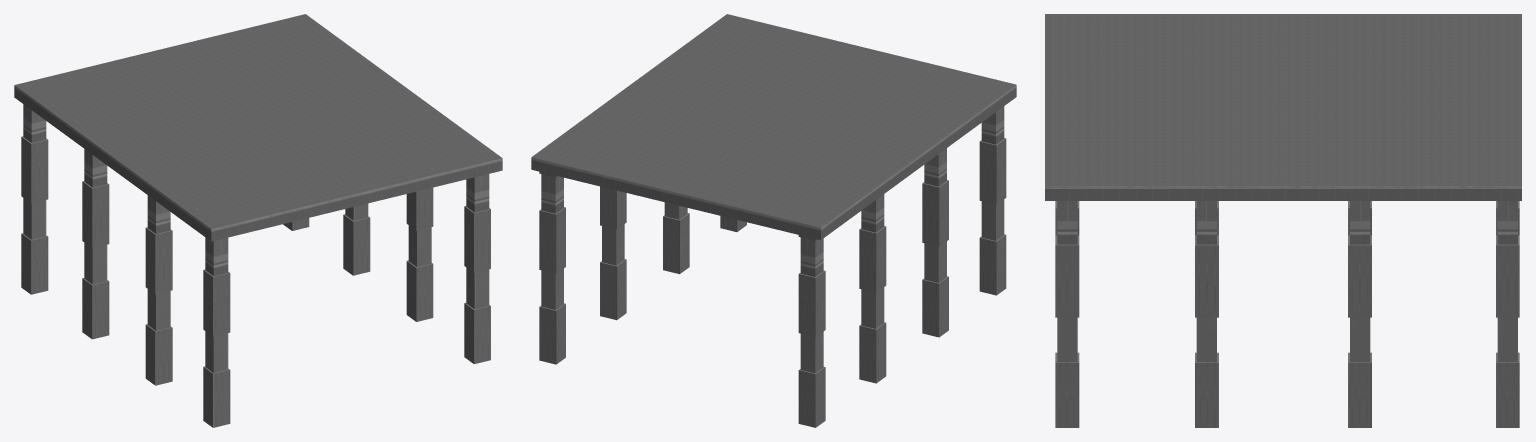
The model's file is SM_support_module_large_02.glb.
3 views of the same model, side by side, from view 1: azimuth 30°, elevation 25°; view 2: azimuth 150°, elevation 25°; view 3: azimuth 270°, elevation 25° (orthographic). The views are drawn at different scales.
Visible parts, largest first — view 1: SM_support_module_large_02; view 2: SM_support_module_large_02; view 3: SM_support_module_large_02.
Part boxes in pixels (box(x1,y1,x2,y2)): SM_support_module_large_02: box(14, 14, 502, 427); SM_support_module_large_02: box(531, 14, 1016, 427); SM_support_module_large_02: box(1045, 14, 1521, 427).
Bounding box in the file's own units: 34.16 × 22.8 × 40.
Materials: 2 (2 with a texture image).
